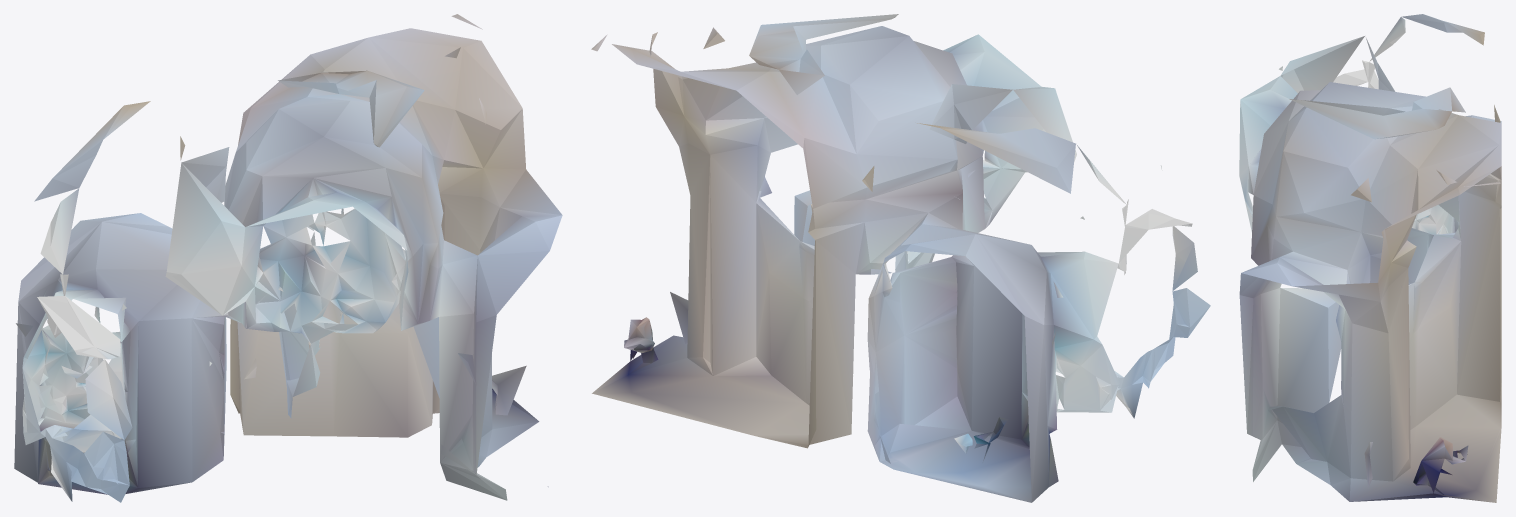
3 renders of one model, left to right at view 1: azimuth 30°, elevation 25°; view 2: azimuth 150°, elevation 25°; view 3: azimuth 270°, elevation 25°, orthographic. The views are drawn at different scales.
Bounding box in the file's own units: 10.13 × 7.33 × 5.
